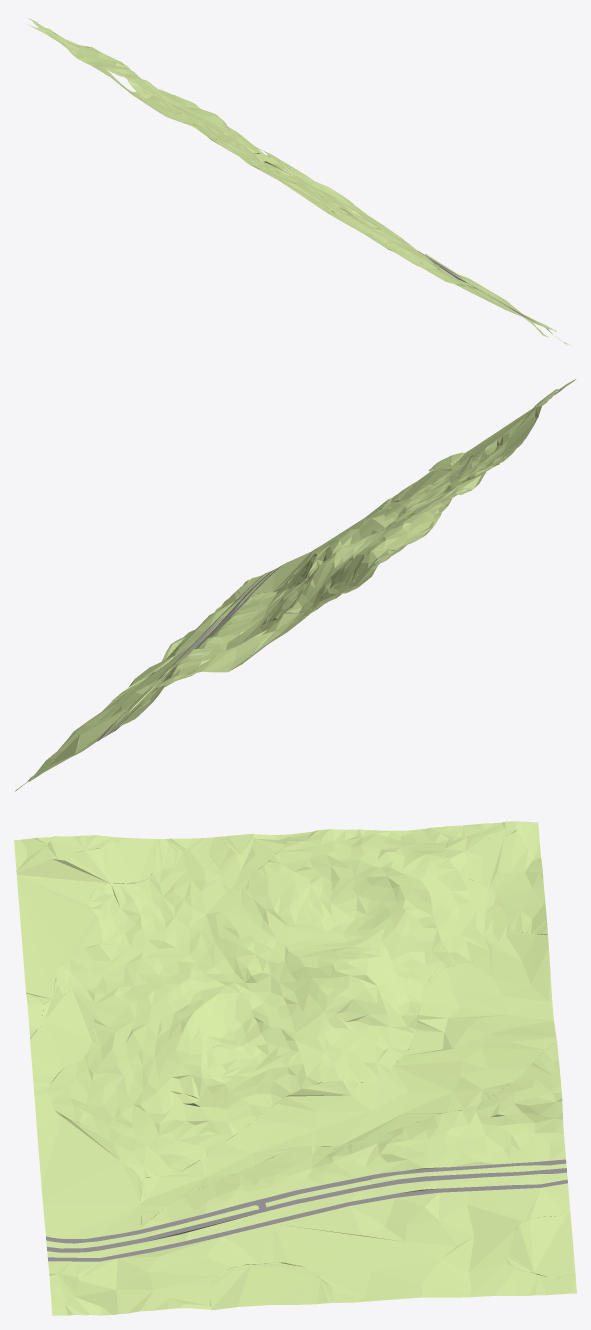
3 views of the same model, one above another, from view 1: azimuth 30°, elevation 25°; view 2: azimuth 150°, elevation 25°; view 3: azimuth 270°, elevation 25° (orthographic). The views are drawn at different scales.
Size of the model in its own units: 217 by 163 by 267.
